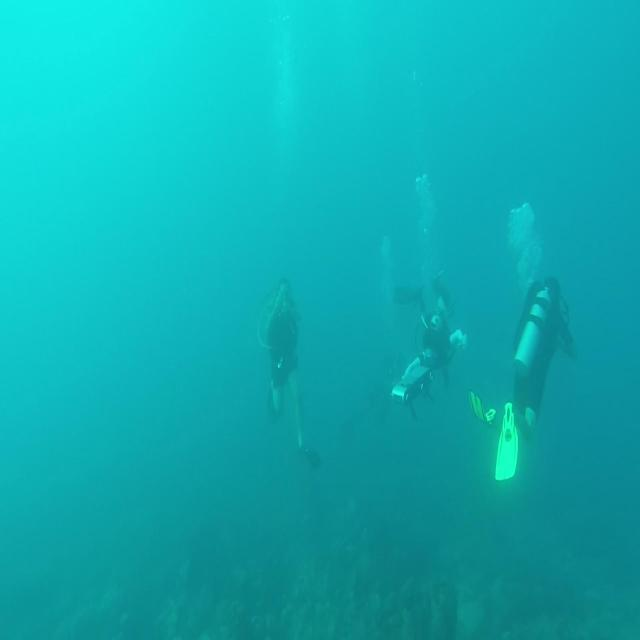human: (469, 273, 577, 481), (257, 276, 320, 468), (390, 272, 467, 420)
